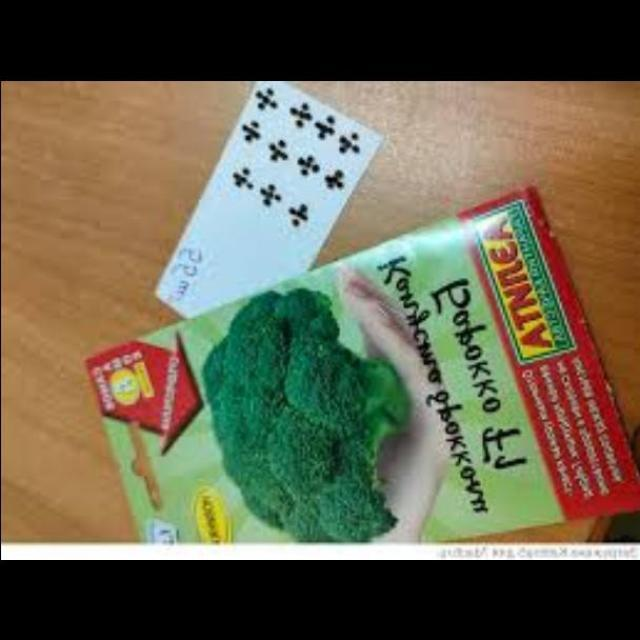Broccoli: (187, 299, 426, 547)
